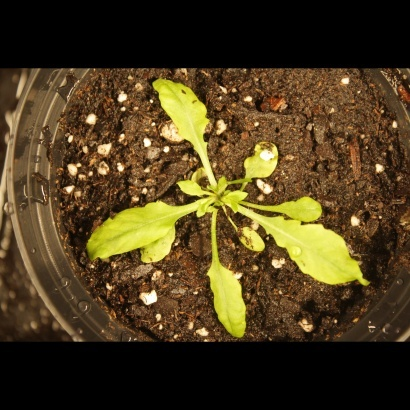leaf: (247, 210, 376, 294), (79, 189, 172, 265), (143, 67, 212, 158), (197, 248, 253, 343), (241, 133, 285, 182), (140, 221, 176, 265), (278, 194, 326, 225), (230, 220, 269, 258), (175, 173, 211, 198), (218, 186, 249, 210)
